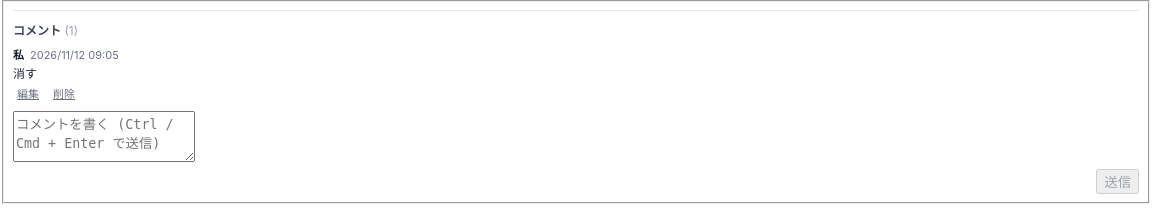
Test: CommentsSection › 削除は確認ダイアログ (window.confirm ではない) を経てから DELETE する
The image size is (1152, 221).
Step 1. Click the button with test id "comment-delete" → (64, 93), box [49,85,79,101]
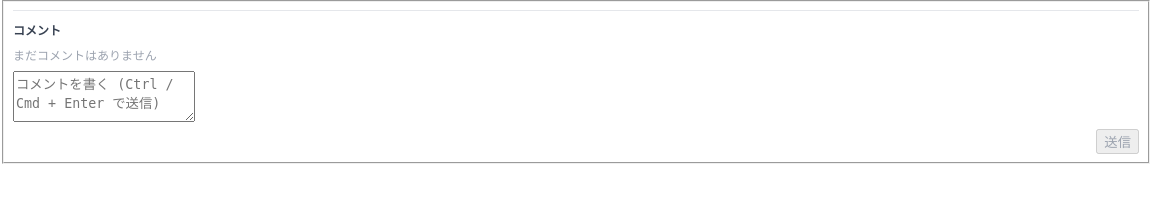
Check: no list items with test id "comment" are shown
